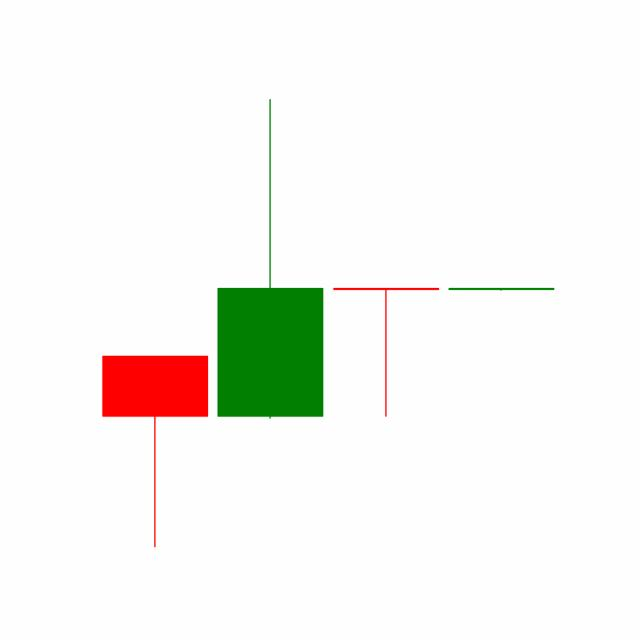Dragonfly Doji: (328, 286, 444, 419)
